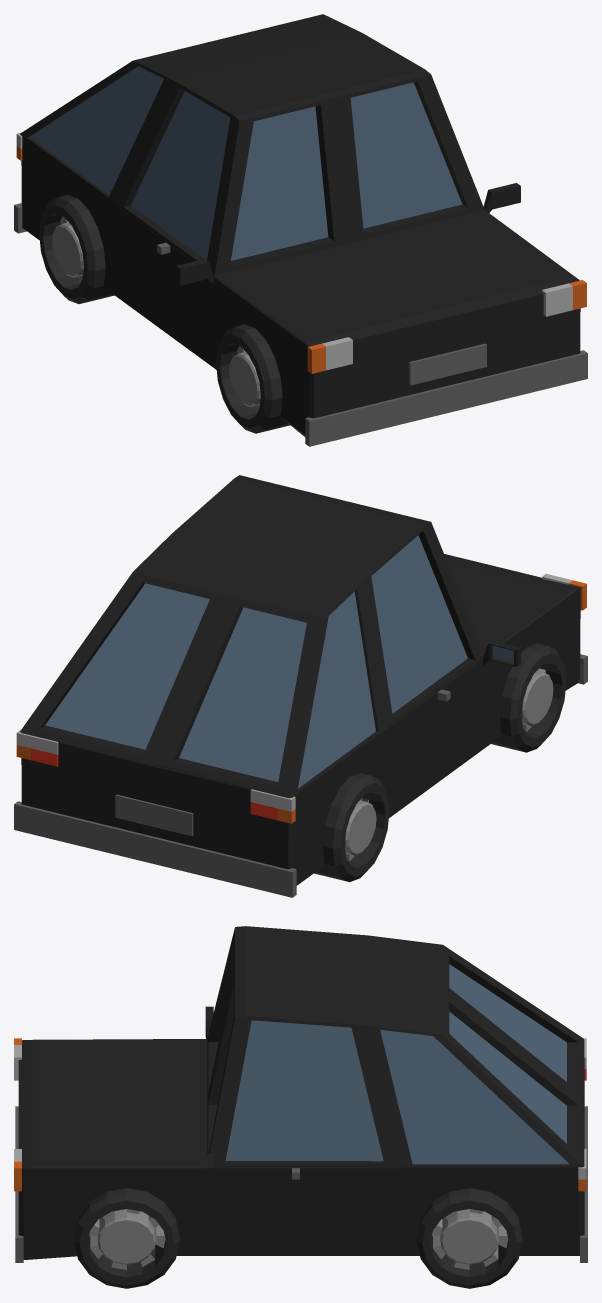
The model's file is BlackCar.fbx.
3 renders of one model, top to bottom at view 1: azimuth 30°, elevation 25°; view 2: azimuth 150°, elevation 25°; view 3: azimuth 270°, elevation 25°, orthographic. The views are drawn at different scales.
Parts seen in each view (by area): view 1: Black; view 2: Black; view 3: Black.
Part boxes in pixels (x1=…): Black: x1=14, y1=14, x2=587, y2=446; Black: x1=14, y1=475, x2=587, y2=897; Black: x1=14, y1=926, x2=587, y2=1288.
Size of the model in its own units: 216 by 155 by 325.
